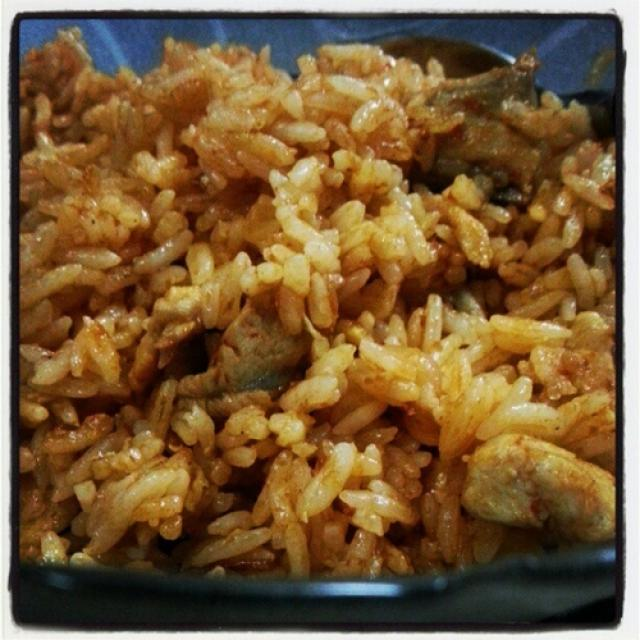米饭主食: (32, 28, 599, 599)
